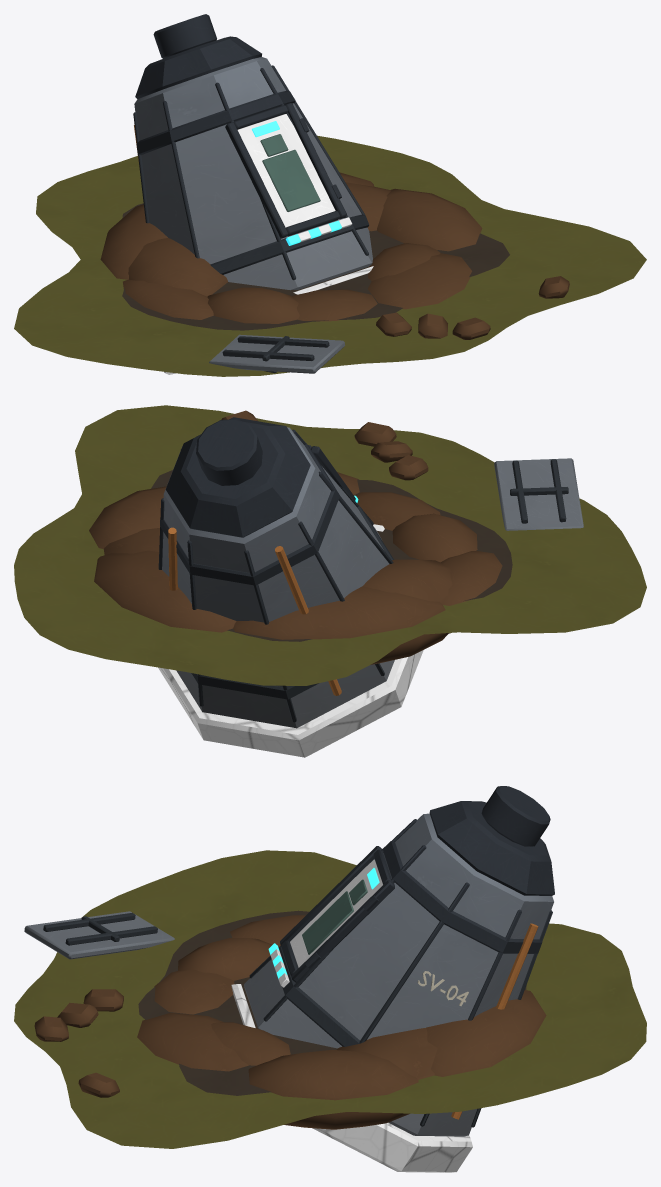
Rendered from drop_pod_crashed.glb.
3 views of the same model, one above another, from view 1: azimuth 30°, elevation 25°; view 2: azimuth 150°, elevation 25°; view 3: azimuth 270°, elevation 25° (orthographic). The views are drawn at different scales.
Parts seen in each view (by area): view 1: drop_pod_crashed; view 2: drop_pod_crashed; view 3: drop_pod_crashed.
Part boxes in pixels (box(x1,y1,x2,y2)): drop_pod_crashed: box(14, 14, 646, 376); drop_pod_crashed: box(14, 405, 646, 757); drop_pod_crashed: box(14, 786, 646, 1172).
Bounding box in the file's own units: 5.44 × 3.02 × 4.87.
12 materials, 10 textured.
